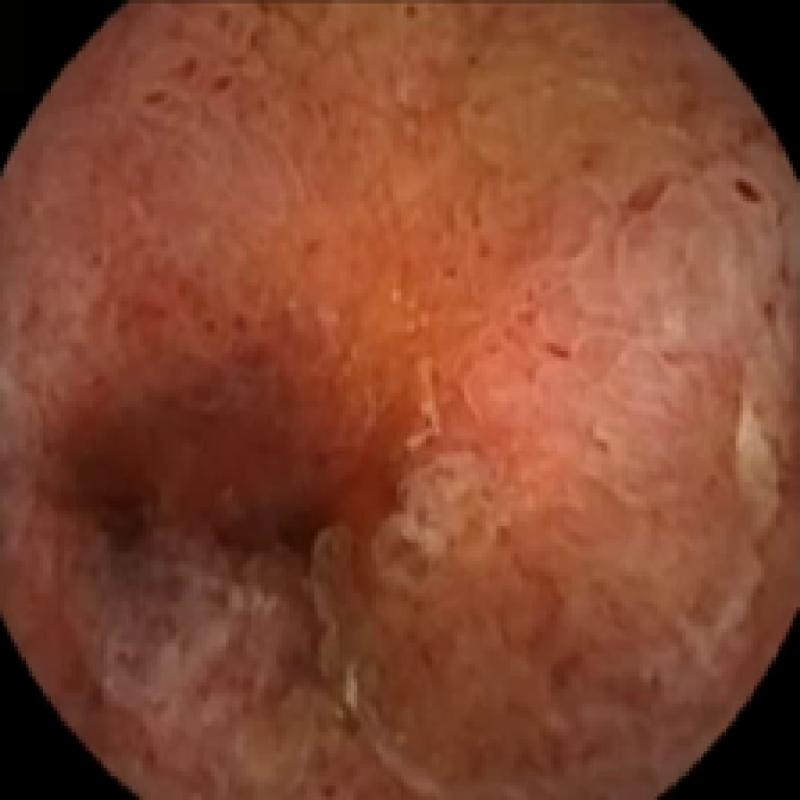bleeding: (10, 235, 454, 705), (728, 164, 772, 218)
